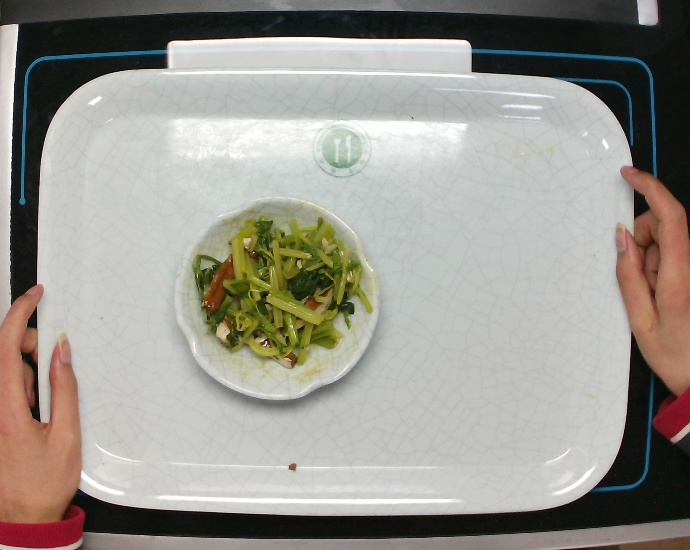JYsf-Ao_Yuan_Wan: (168, 193, 384, 405)
